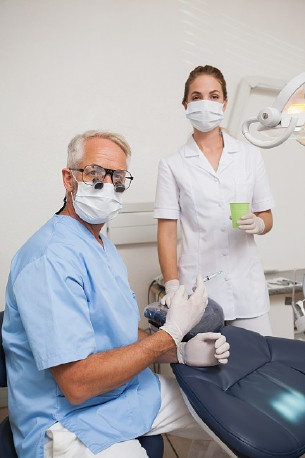Mask: (67, 161, 134, 228)
